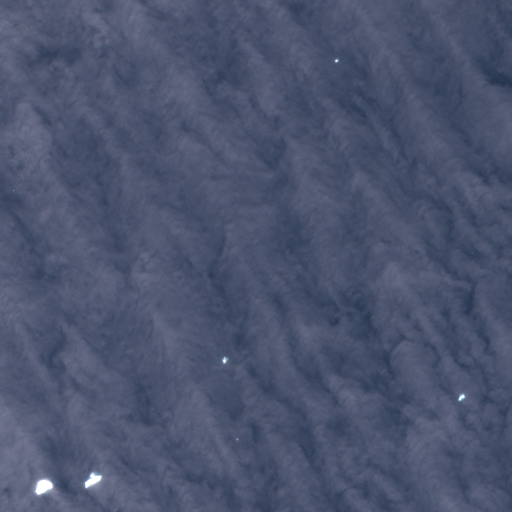Iceberg: (35, 478, 52, 494), (84, 472, 102, 487), (458, 393, 464, 400), (222, 356, 227, 363), (334, 58, 338, 62), (236, 438, 238, 440)
